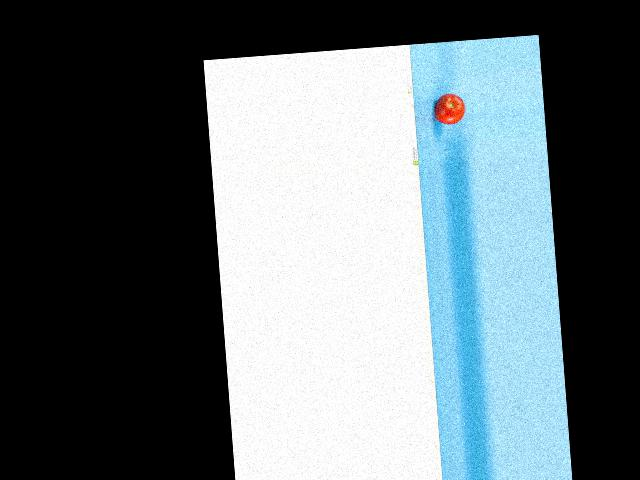tomato: (433, 91, 465, 125)
